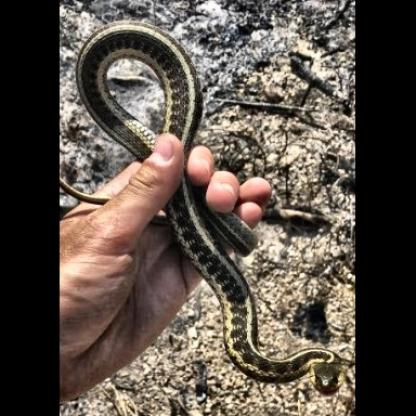Snake: (58, 24, 343, 407)
